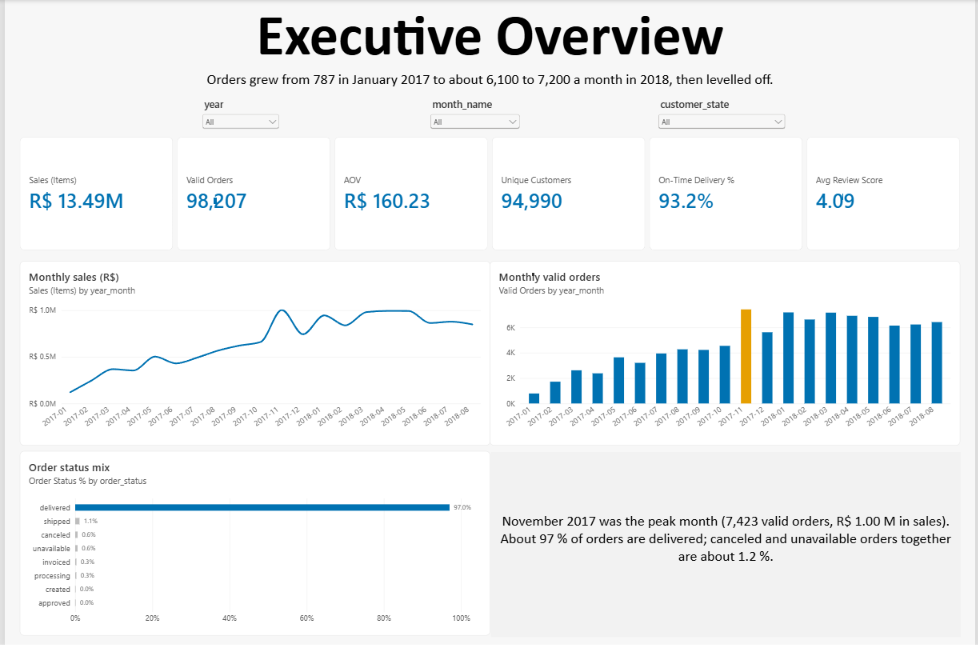

This screenshot's page, from the dashboard's own definition file:
{"tool":"powerbi","page":{"name":"1. Executive Overview","canvas":[1800,1200],"ordinal":0},"visuals":[{"type":"textbox","box":[27.5,0,1745,180],"z":0},{"type":"slicer","fields":{"Values":["dim_date.year"]},"box":[362.5,180,152.5,75],"z":1},{"type":"slicer","fields":{"Values":["dim_date.month_name"]},"box":[785,180,175,75],"z":2},{"type":"slicer","fields":{"Values":["fact_orders.customer_state"]},"box":[1207.5,180,245,75],"z":3},{"type":"cardVisual","fields":{"Data":["_Measures.Sales (Items)","_Measures.Valid Orders","_Measures.AOV","_Measures.Unique Customers","_Measures.On-Time Delivery %","_Measures.Avg Review Score"]},"box":[27.5,255,1745,210],"z":4},{"type":"lineChart","title":"Monthly sales (R$)","fields":{"Category":["dim_date.year_month"],"Y":["_Measures.Sales (Items)"]},"box":[27.5,485,872.5,342.5],"z":5},{"type":"clusteredColumnChart","title":"Monthly valid orders","fields":{"Category":["dim_date.year_month"],"Y":["_Measures.Valid Orders"]},"box":[900,485,872.5,342.5],"z":6},{"type":"clusteredBarChart","title":"Order status mix","fields":{"Category":["fact_orders.order_status"],"Y":["_Measures.Order Status %"]},"box":[27.5,837.5,872.5,342.5],"z":7},{"type":"textbox","box":[901,838,872,343],"z":9}]}

Visuals, with their boxes in screenshot pixels (x1, y1, x2, y2), scaled from the page's 1800x1200 canvas onto the 978x645 screenshot:
textbox: bbox(15, 0, 963, 97)
slicer - dim_date.year: bbox(197, 97, 280, 137)
slicer - dim_date.month_name: bbox(427, 97, 522, 137)
slicer - fact_orders.customer_state: bbox(656, 97, 789, 137)
cardVisual - _Measures.Sales (Items) x _Measures.Valid Orders: bbox(15, 137, 963, 250)
"Monthly sales (R$)" lineChart: bbox(15, 261, 489, 445)
"Monthly valid orders" clusteredColumnChart: bbox(489, 261, 963, 445)
"Order status mix" clusteredBarChart: bbox(15, 450, 489, 634)
textbox: bbox(490, 450, 963, 635)
